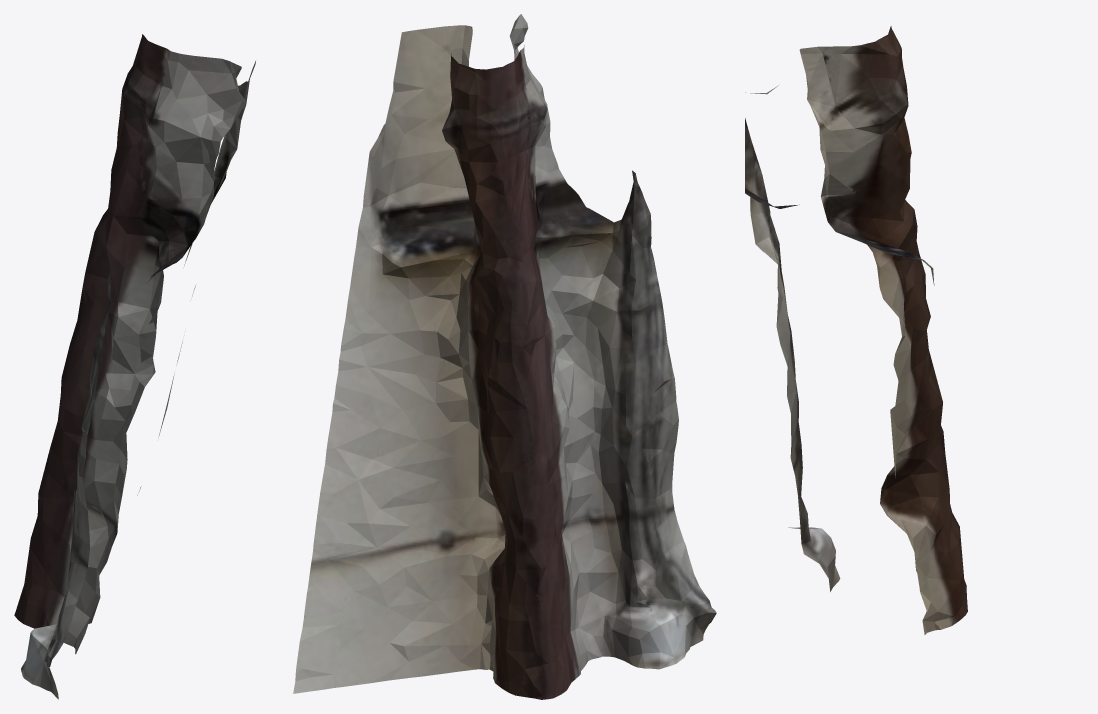
The picture shows the model from 3 angles, left to right: view 1: azimuth 30°, elevation 25°; view 2: azimuth 150°, elevation 25°; view 3: azimuth 270°, elevation 25°; orthographic projection. The views are drawn at different scales.
Bounding box in the file's own units: 0.4008 × 0.8374 × 0.4104.
2 materials, 2 textured.
